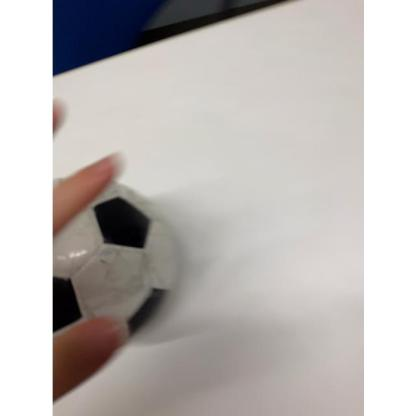ball: (57, 216, 167, 322)
